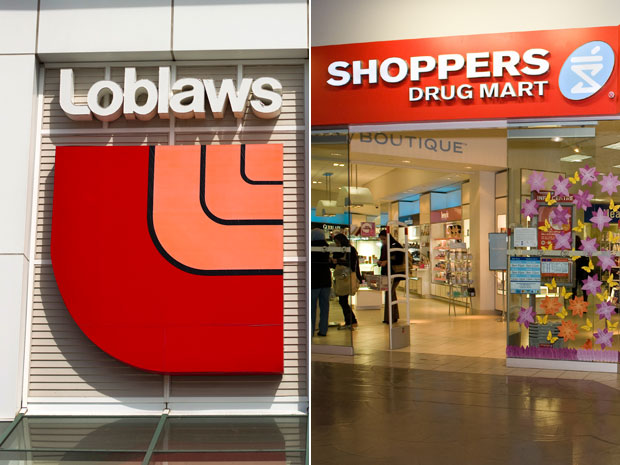Not_Face: (330, 234, 356, 255), (377, 231, 399, 249)
